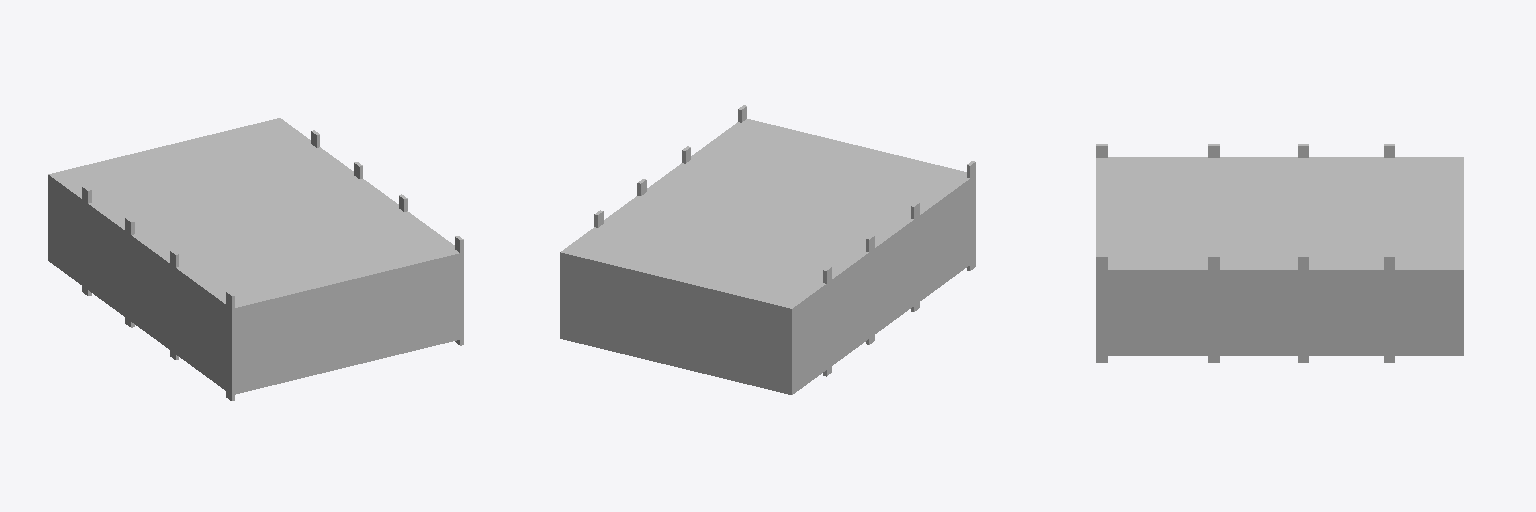
The model's file is classroom.obj.
The picture shows the model from 3 angles: view 1: azimuth 30°, elevation 25°; view 2: azimuth 150°, elevation 25°; view 3: azimuth 270°, elevation 25°; orthographic projection.
Parts seen in each view (by area): view 1: Plane.006, Plane.004, Plane.002, Cube.029_Cube.034, Cube.021_Cube.026; view 2: Plane.006, Plane.003, Plane.002, Cube.029_Cube.034, Cube.021_Cube.026; view 3: Plane.006, Plane.001, Cube.025_Cube.030, Cube.028_Cube.033, Cube.022_Cube.027, Cube.027_Cube.032.
Part boxes in pixels (x1,y1,x2,y2): Plane.006: (48, 118, 458, 307); Plane.004: (232, 252, 463, 394); Plane.002: (48, 175, 225, 390); Cube.029_Cube.034: (226, 291, 234, 400); Cube.021_Cube.026: (138, 267, 160, 309); Plane.006: (561, 119, 969, 308); Plane.003: (560, 252, 791, 394); Plane.002: (792, 179, 969, 394); Cube.029_Cube.034: (967, 161, 975, 270); Cube.021_Cube.026: (882, 253, 904, 295); Plane.006: (1096, 157, 1463, 269); Plane.001: (1096, 270, 1463, 355); Cube.025_Cube.030: (1208, 255, 1219, 362); Cube.028_Cube.033: (1096, 255, 1107, 362); Cube.022_Cube.027: (1298, 255, 1308, 362); Cube.027_Cube.032: (1384, 255, 1394, 362).
Bounding box in the file's own units: 90.29 × 41.2 × 124.